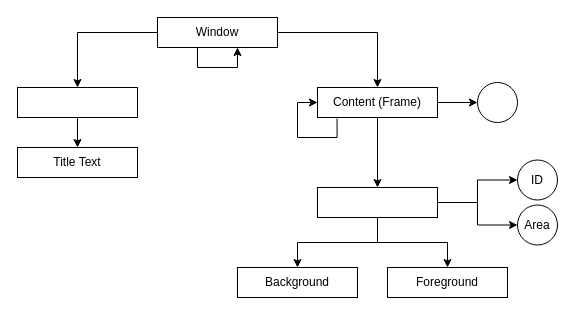
The diagram is 575 pixels wide and 315 high, and some of its shapes have lost their labels. The shapes that lost their labels are listed below. From the top down, each one's centre as x and y in pixels, then its label:
At point (77, 102): "Title Bar".
At point (497, 102): "Align".
At point (377, 202): "Component".
